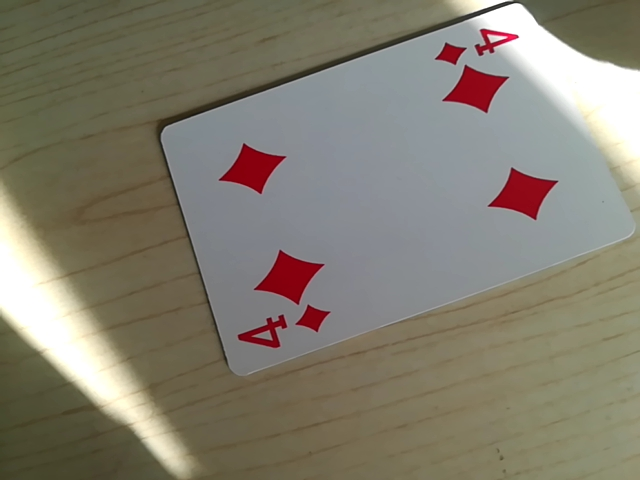fk 4: (232, 303, 332, 356), (436, 16, 522, 66)
